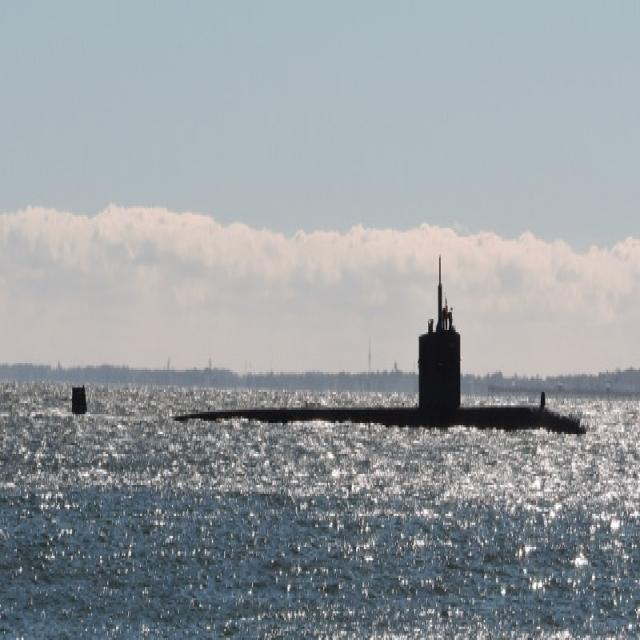submarine: (60, 329, 589, 442)
